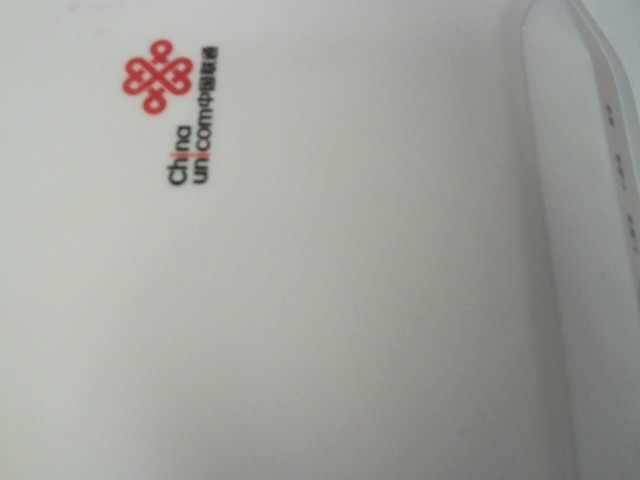AC_ChinaUnicom: (106, 27, 233, 193)
